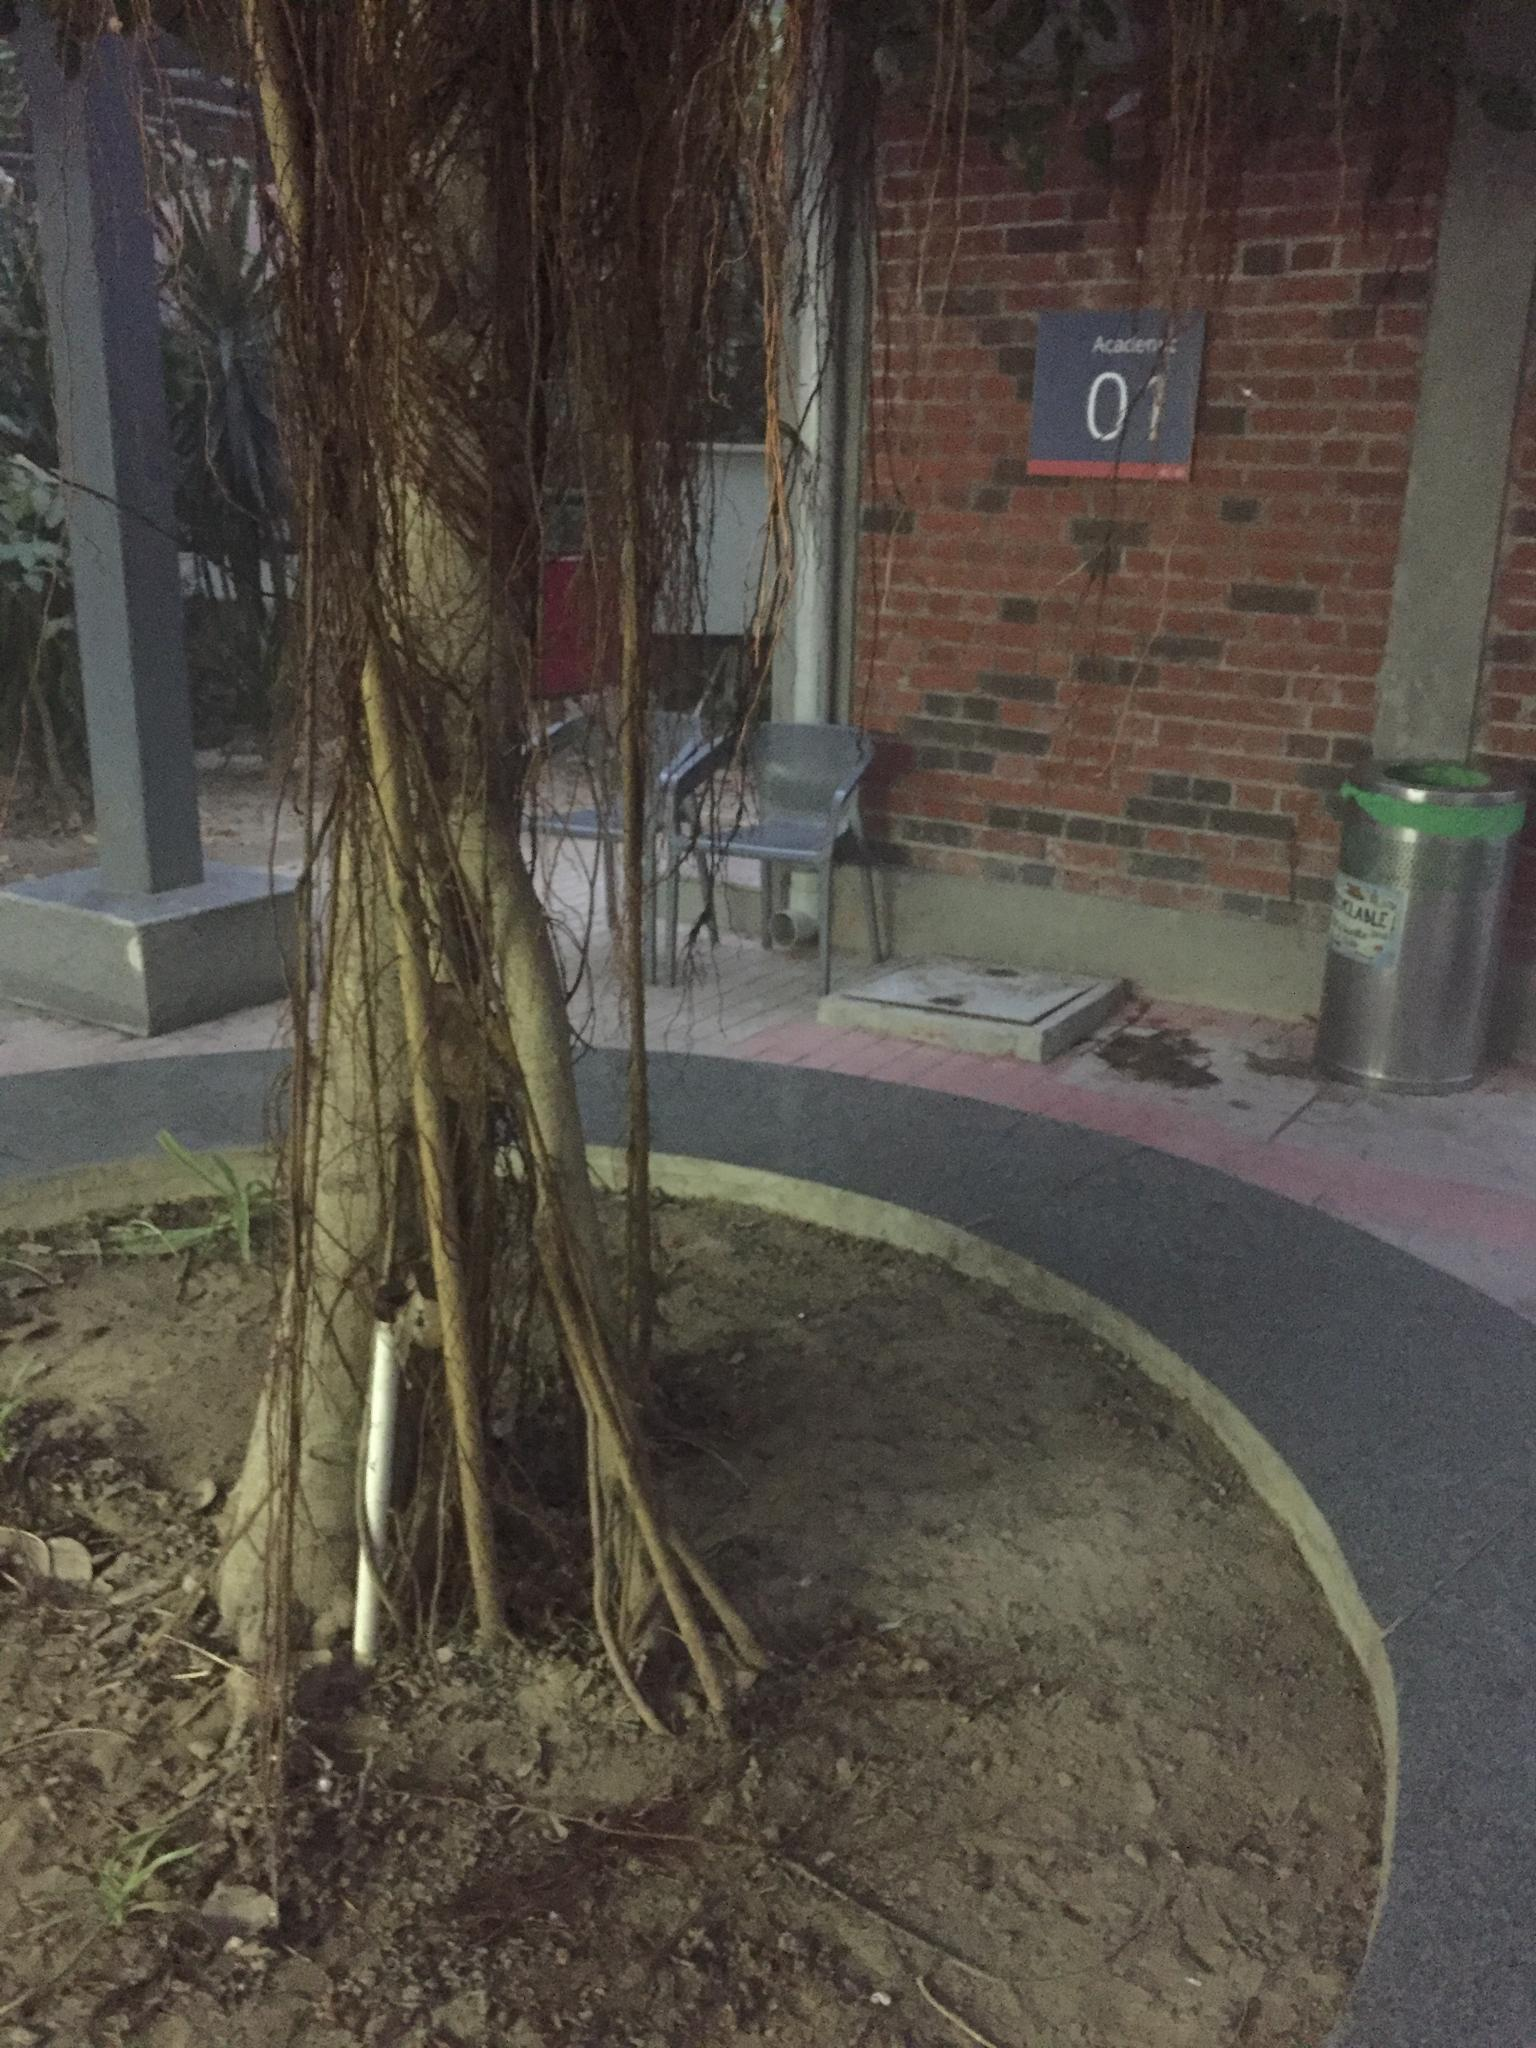chair: (673, 719, 889, 995)
